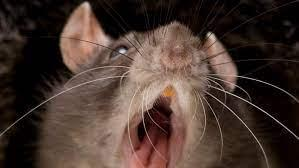rat: (42, 0, 252, 168)
